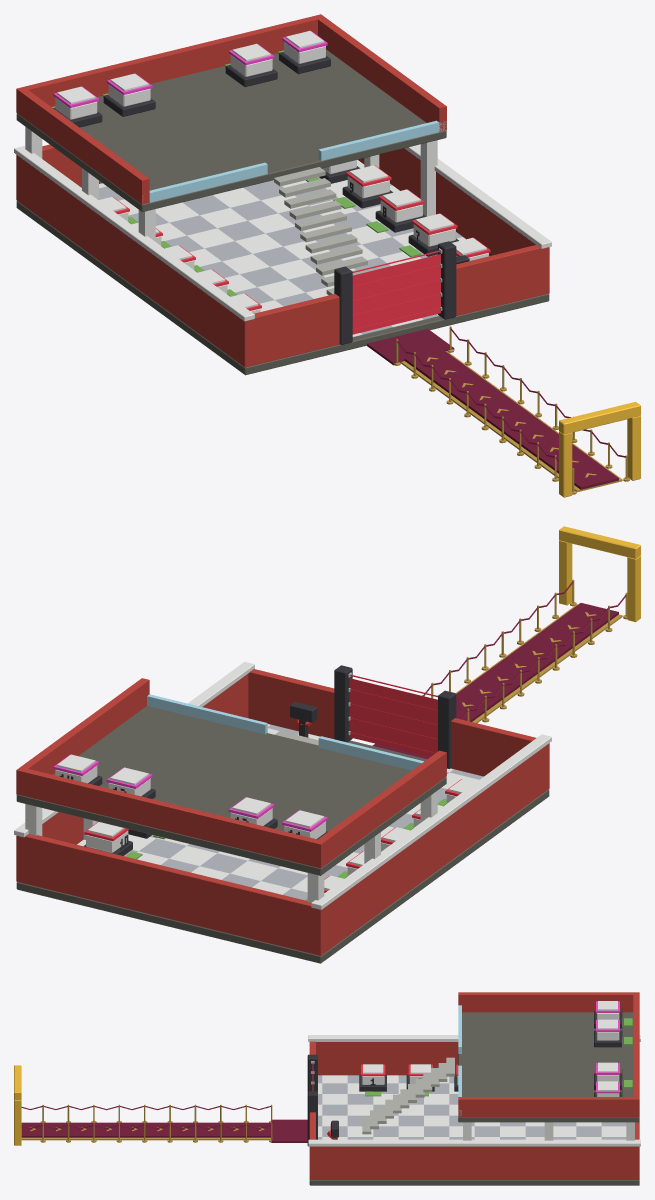
Rendered from RedStealBase.fbx.
The picture shows the model from 3 angles, top to bottom: view 1: azimuth 30°, elevation 25°; view 2: azimuth 150°, elevation 25°; view 3: azimuth 270°, elevation 25°; orthographic projection. The views are drawn at different scales.
Visible parts, largest first — view 1: RedStealBase, RedStealBase_Floor2, RedStealBase_Belt, RedStealBase_Lasers, RedStealBase_Slot8, RedStealBase_Slot9, RedStealBase_Slot12, RedStealBase_Slot13, RedStealBase_Slot14, RedStealBase_Slot7, RedStealBase_Slot11; view 2: RedStealBase, RedStealBase_Floor2, RedStealBase_Lasers, RedStealBase_Belt, RedStealBase_Slot10, RedStealBase_Slot14, RedStealBase_Slot12, RedStealBase_Slot13, RedStealBase_Slot11; view 3: RedStealBase, RedStealBase_Floor2, RedStealBase_Belt, RedStealBase_Slot12, RedStealBase_Slot1, RedStealBase_Slot13, RedStealBase_Slot11, RedStealBase_Slot2, RedStealBase_Slot14.
Part boxes in pixels (x1,y1,x2,y2): RedStealBase: (14, 144, 640, 497); RedStealBase_Floor2: (16, 14, 446, 295); RedStealBase_Belt: (404, 349, 618, 489); RedStealBase_Lasers: (352, 250, 440, 334); RedStealBase_Slot8: (366, 189, 426, 232); RedStealBase_Slot9: (333, 165, 392, 208); RedStealBase_Slot12: (102, 73, 155, 116); RedStealBase_Slot13: (224, 43, 277, 86); RedStealBase_Slot14: (278, 31, 330, 74); RedStealBase_Slot7: (399, 213, 458, 257); RedStealBase_Slot11: (52, 86, 102, 127); RedStealBase: (14, 526, 640, 963); RedStealBase_Floor2: (16, 678, 446, 902); RedStealBase_Lasers: (349, 674, 437, 756); RedStealBase_Belt: (456, 603, 618, 721); RedStealBase_Slot10: (84, 821, 142, 859); RedStealBase_Slot14: (53, 754, 102, 785); RedStealBase_Slot12: (228, 797, 277, 828); RedStealBase_Slot13: (106, 767, 155, 798); RedStealBase_Slot11: (282, 810, 327, 839); RedStealBase: (14, 1035, 640, 1185); RedStealBase_Floor2: (362, 992, 639, 1140); RedStealBase_Belt: (21, 1122, 271, 1137); RedStealBase_Slot12: (594, 1019, 632, 1047); RedStealBase_Slot1: (359, 1064, 386, 1096); RedStealBase_Slot13: (594, 1062, 632, 1090); RedStealBase_Slot11: (594, 1001, 632, 1028); RedStealBase_Slot2: (406, 1064, 434, 1096); RedStealBase_Slot14: (594, 1081, 622, 1096).
Size of the model in its own units: 40.4 by 15.1 by 98.8.
1 material, 1 textured.
